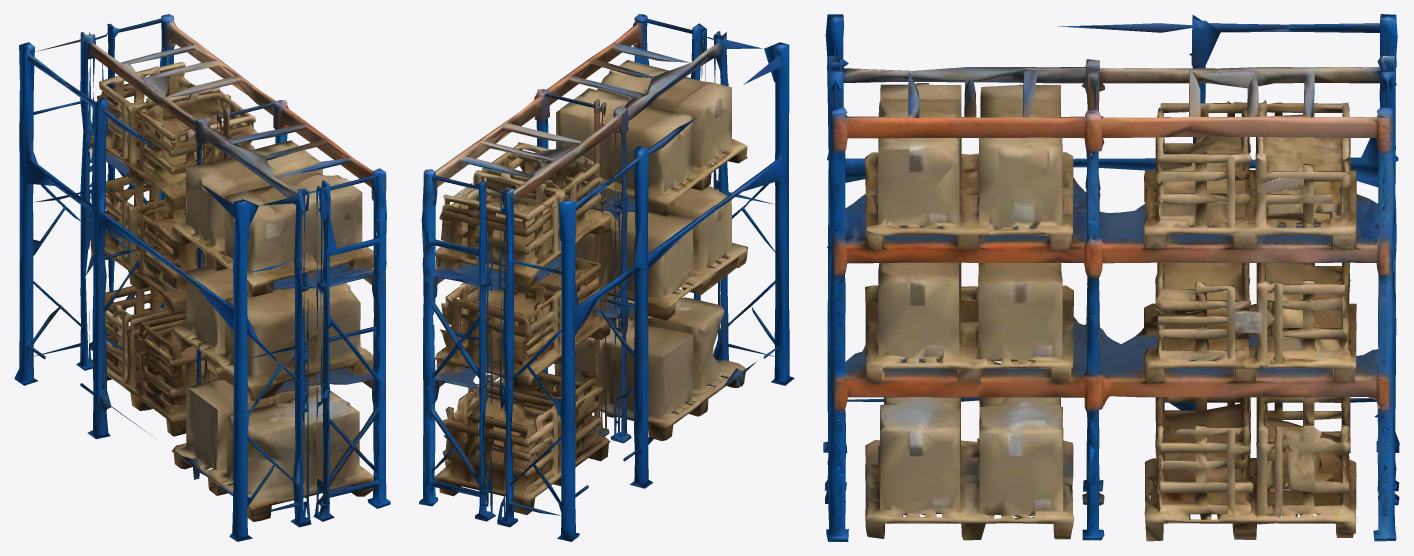
The model's file is rack.glb.
3 views of the same model, side by side, from view 1: azimuth 30°, elevation 25°; view 2: azimuth 150°, elevation 25°; view 3: azimuth 270°, elevation 25° (orthographic). The views are drawn at different scales.
Visible parts, largest first — view 1: tripo_node_0fa147e4-faac-407d-bcef-df7cb81d05d9; view 2: tripo_node_0fa147e4-faac-407d-bcef-df7cb81d05d9; view 3: tripo_node_0fa147e4-faac-407d-bcef-df7cb81d05d9.
Part boxes in pixels (x1,y1,x2,y2): tripo_node_0fa147e4-faac-407d-bcef-df7cb81d05d9: (14, 14, 390, 541); tripo_node_0fa147e4-faac-407d-bcef-df7cb81d05d9: (419, 14, 794, 541); tripo_node_0fa147e4-faac-407d-bcef-df7cb81d05d9: (823, 14, 1399, 541).
Size of the model in its own units: 0.4022 by 0.8304 by 1.
Materials: 1 (1 with a texture image).
